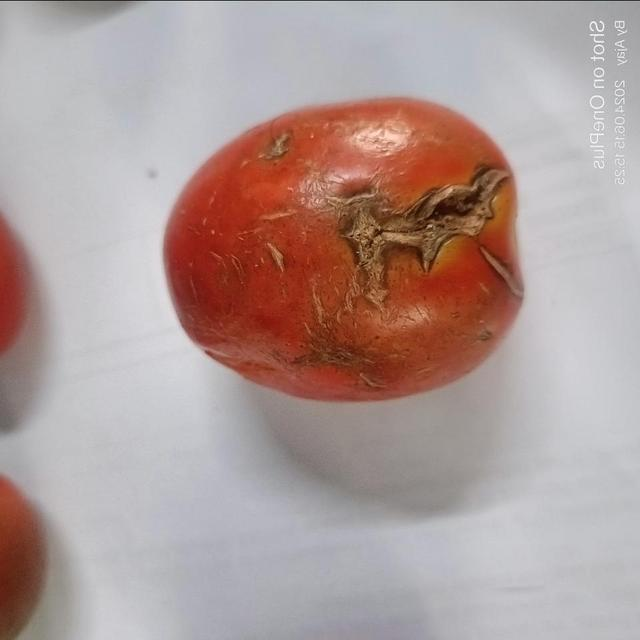Cracking Fruit: (119, 121, 380, 300)
